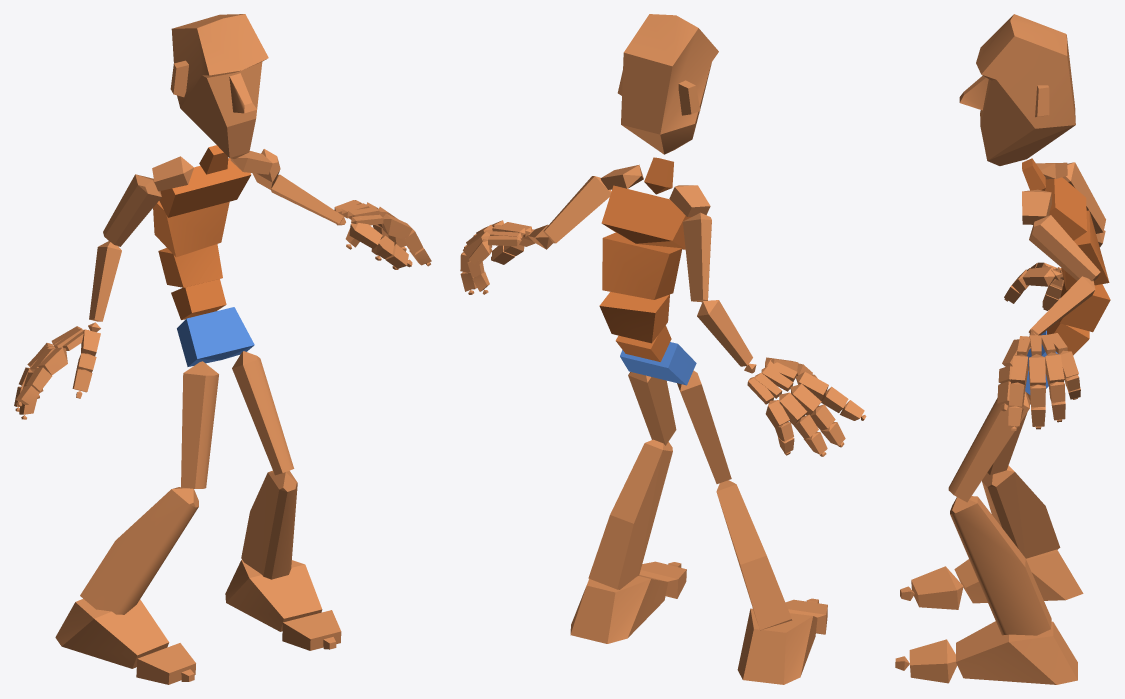
File: prueba160.obj
3 renders of one model, left to right at view 1: azimuth 30°, elevation 25°; view 2: azimuth 150°, elevation 25°; view 3: azimuth 270°, elevation 25°, orthographic. The views are drawn at different scales.
Parts seen in each view (by area): view 1: BOPED_Head, BOPED_R_leg, BOPED_R_foot, BOPED_L_leg, BOPED_R_foot01, BOPED_R_legup, BOPED_L_legup, Bone01, Bone04, Bone05, BOPED_R_arm_upper, Bone03 (+7 smaller); view 2: BOPED_Head, BOPED_L_leg, BOPED_R_foot01, BOPED_R_leg, BOPED_R_foot, Bone04, Bone05, Bone03, BOPED_R_legup, BOPED_L_legup, BOPED_R_arm_upper, BOPED_L_arm_upper (+8 smaller); view 3: BOPED_Head, BOPED_L_leg, BOPED_R_foot01, BOPED_R_leg, BOPED_L_legup, BOPED_R_foot, BOPED_L_arm_upper, Bone05, BOPED_R_foot_toe01, BOPED_R_foot_toe04, BOPED_L_arm_fore, Bone03 (+14 smaller).
Part boxes in pixels (bbox=[...]): BOPED_Head: bbox=[170, 14, 268, 158]; BOPED_R_leg: bbox=[80, 487, 198, 614]; BOPED_R_foot: bbox=[55, 599, 169, 668]; BOPED_L_leg: bbox=[241, 470, 297, 579]; BOPED_R_foot01: bbox=[225, 560, 322, 631]; BOPED_R_legup: bbox=[181, 361, 218, 488]; BOPED_L_legup: bbox=[232, 351, 294, 475]; Bone01: bbox=[177, 307, 254, 366]; Bone04: bbox=[153, 201, 229, 257]; Bone05: bbox=[159, 158, 251, 217]; BOPED_R_arm_upper: bbox=[103, 174, 161, 246]; Bone03: bbox=[158, 244, 222, 287]; BOPED_Head: bbox=[617, 14, 718, 154]; BOPED_L_leg: bbox=[588, 439, 672, 589]; BOPED_R_foot01: bbox=[570, 575, 668, 643]; BOPED_R_leg: bbox=[716, 480, 792, 630]; BOPED_R_foot: bbox=[737, 608, 817, 684]; Bone04: bbox=[602, 232, 682, 299]; Bone05: bbox=[601, 185, 691, 249]; Bone03: bbox=[599, 292, 669, 343]; BOPED_R_legup: bbox=[677, 370, 731, 483]; BOPED_L_legup: bbox=[628, 372, 676, 445]; BOPED_R_arm_upper: bbox=[683, 212, 711, 302]; BOPED_L_arm_upper: bbox=[543, 176, 611, 243]; BOPED_Head: bbox=[959, 14, 1075, 165]; BOPED_L_leg: bbox=[950, 496, 1051, 635]; BOPED_R_foot01: bbox=[956, 621, 1077, 684]; BOPED_R_leg: bbox=[982, 465, 1060, 558]; BOPED_L_legup: bbox=[948, 391, 1030, 502]; BOPED_R_foot: bbox=[954, 549, 1083, 603]; BOPED_L_arm_upper: bbox=[1029, 215, 1100, 281]; Bone05: bbox=[1044, 177, 1087, 240]; BOPED_R_foot_toe01: bbox=[911, 566, 963, 609]; BOPED_R_foot_toe04: bbox=[909, 639, 957, 683]; BOPED_L_arm_fore: bbox=[1028, 276, 1095, 335]; Bone03: bbox=[1059, 281, 1110, 332].
Bounding box in the file's own units: 130 × 186 × 58.2.
